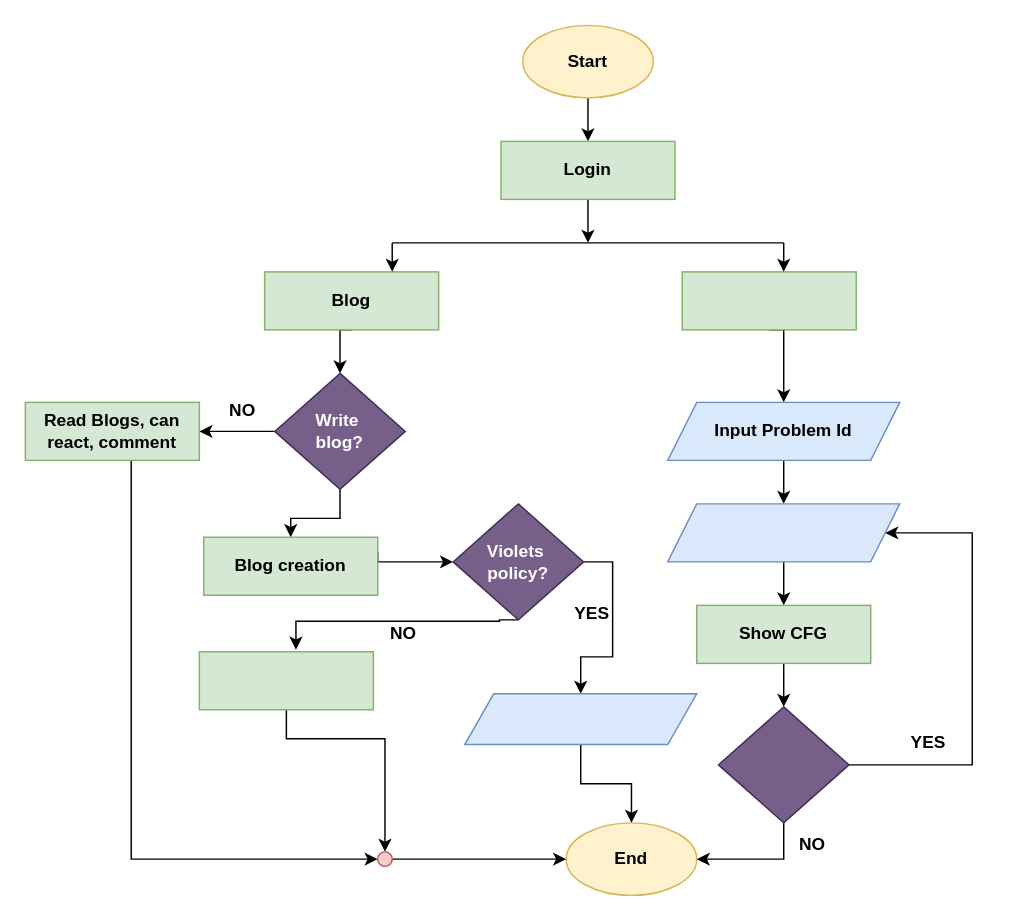
This 1009x921 diagram has some shape labels left out. The box of each missing label's shape, as (x1, y1, x2, y2) in pixels:
Blog Publish: (198, 650, 373, 710)
Further test ?: (717, 705, 849, 823)
Send notification: (463, 692, 697, 745)
Solution Visualization: (681, 270, 856, 330)
Test case: (666, 502, 900, 562)
